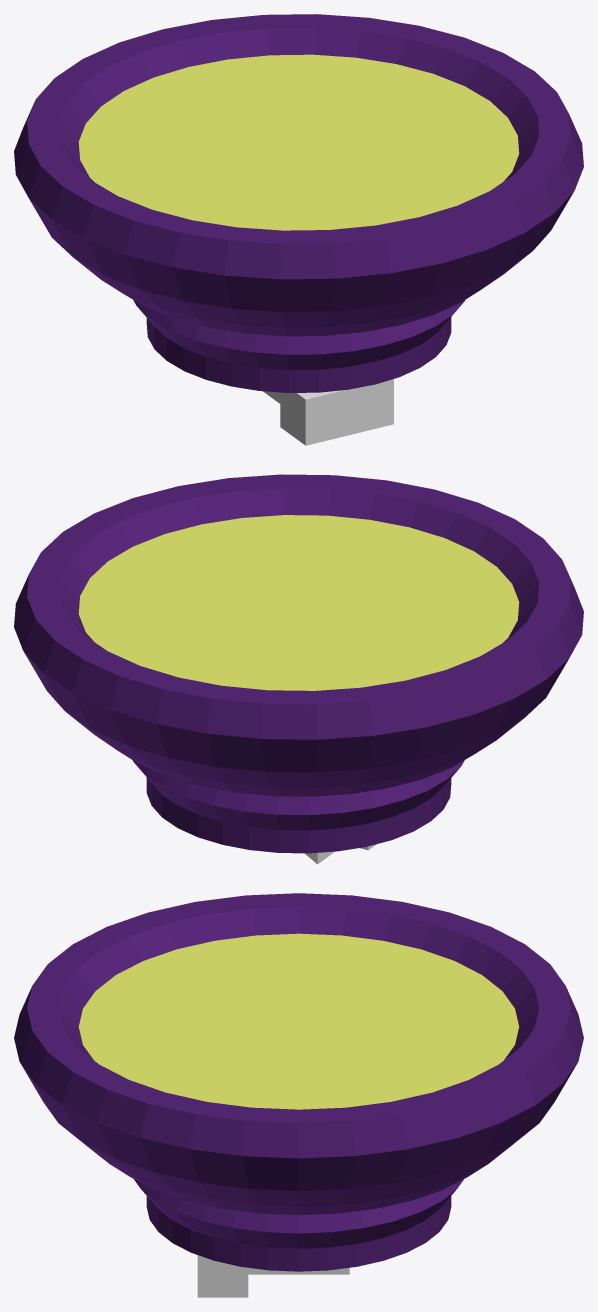
3 views of the same model, one above another, from view 1: azimuth 30°, elevation 25°; view 2: azimuth 150°, elevation 25°; view 3: azimuth 270°, elevation 25° (orthographic).
Parts seen in each view (by area): view 1: Cauldron, WallMount; view 2: Cauldron; view 3: Cauldron, WallMount, Camera RotatingPart.
Part boxes in pixels (x1,y1,x2,y2): Cauldron: [14, 14, 583, 392]; WallMount: [280, 379, 393, 445]; Cauldron: [14, 474, 583, 853]; Cauldron: [14, 893, 583, 1271]; WallMount: [197, 1255, 248, 1297]; Camera RotatingPart: [248, 1268, 349, 1274].
Size of the model in its own units: 2.81 by 1.46 by 2.81.
